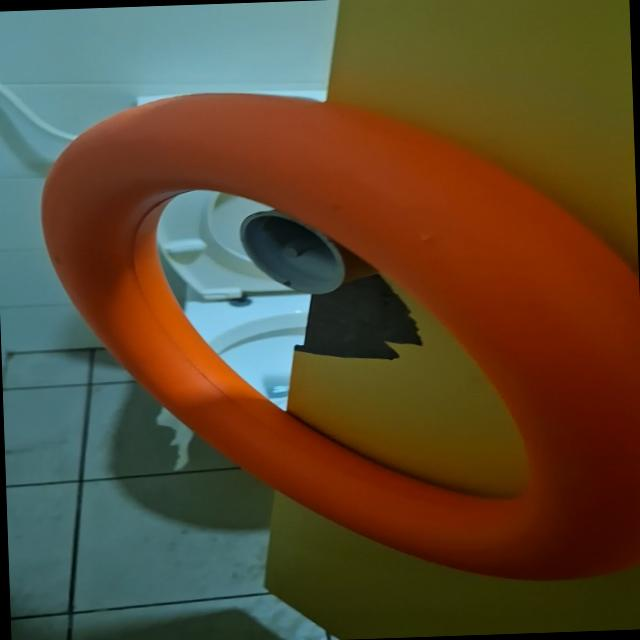note: (34, 77, 640, 598)
